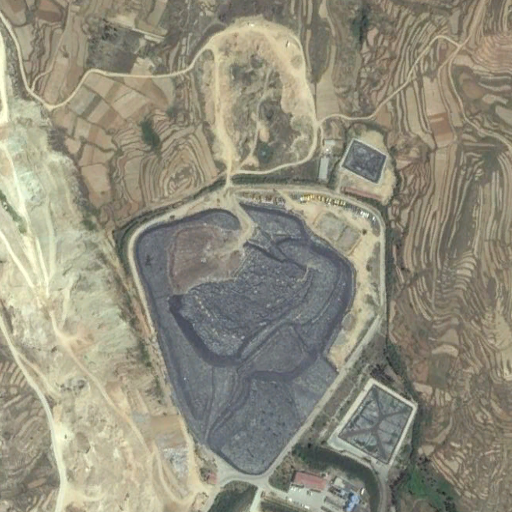lf: (130, 192, 356, 475)
